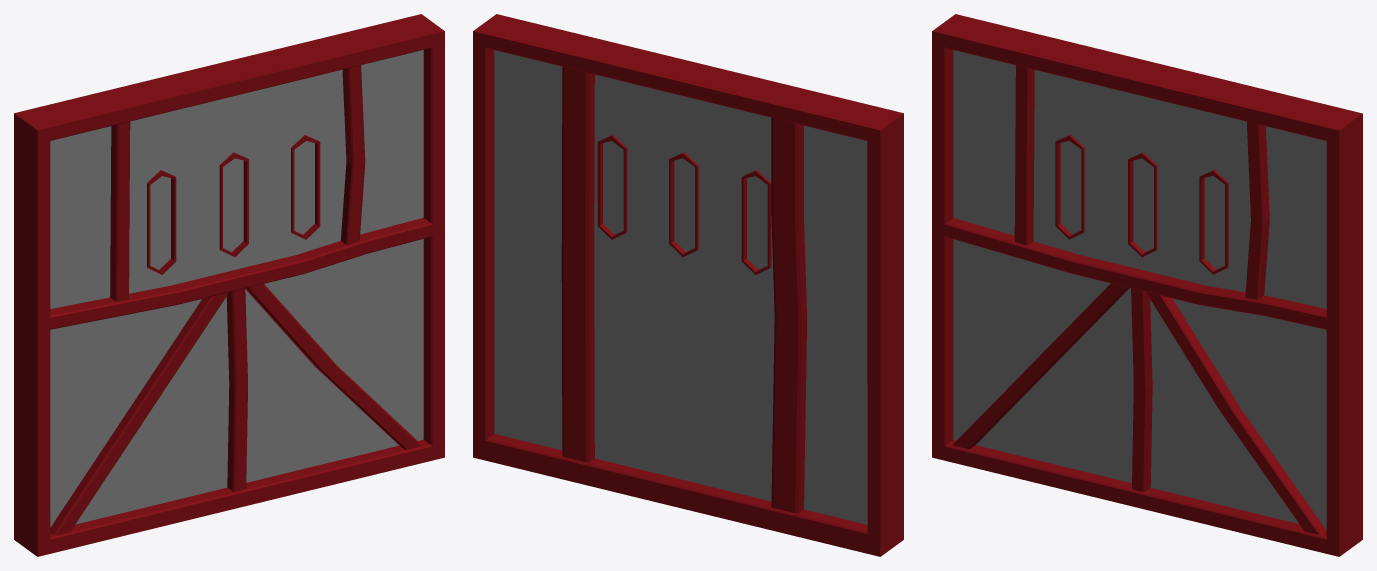
File: SM_MH_01_Wood_02_Wall_Window_02.fbx
The picture shows the model from 3 angles, left to right: view 1: azimuth 30°, elevation 25°; view 2: azimuth 150°, elevation 25°; view 3: azimuth 330°, elevation 25°; orthographic projection.
Visible parts, largest first — view 1: SM_MH_01_Wood_02_Wall_Window_02_LOD0, SM_MH_01_Wood_02_Wall_Window_02W_LOD0; view 2: SM_MH_01_Wood_02_Wall_Window_02_LOD0, SM_MH_01_Wood_02_Wall_Window_02W_LOD0; view 3: SM_MH_01_Wood_02_Wall_Window_02_LOD0, SM_MH_01_Wood_02_Wall_Window_02W_LOD0.
Part boxes in pixels (box(x1,y1,x2,y2)): SM_MH_01_Wood_02_Wall_Window_02_LOD0: box(14, 14, 444, 556); SM_MH_01_Wood_02_Wall_Window_02W_LOD0: box(150, 141, 314, 269); SM_MH_01_Wood_02_Wall_Window_02_LOD0: box(473, 14, 903, 556); SM_MH_01_Wood_02_Wall_Window_02W_LOD0: box(603, 141, 767, 269); SM_MH_01_Wood_02_Wall_Window_02_LOD0: box(932, 14, 1362, 556); SM_MH_01_Wood_02_Wall_Window_02W_LOD0: box(1060, 140, 1224, 269).
Size of what is drawn, in the model's own units: 300 by 300 by 30.
